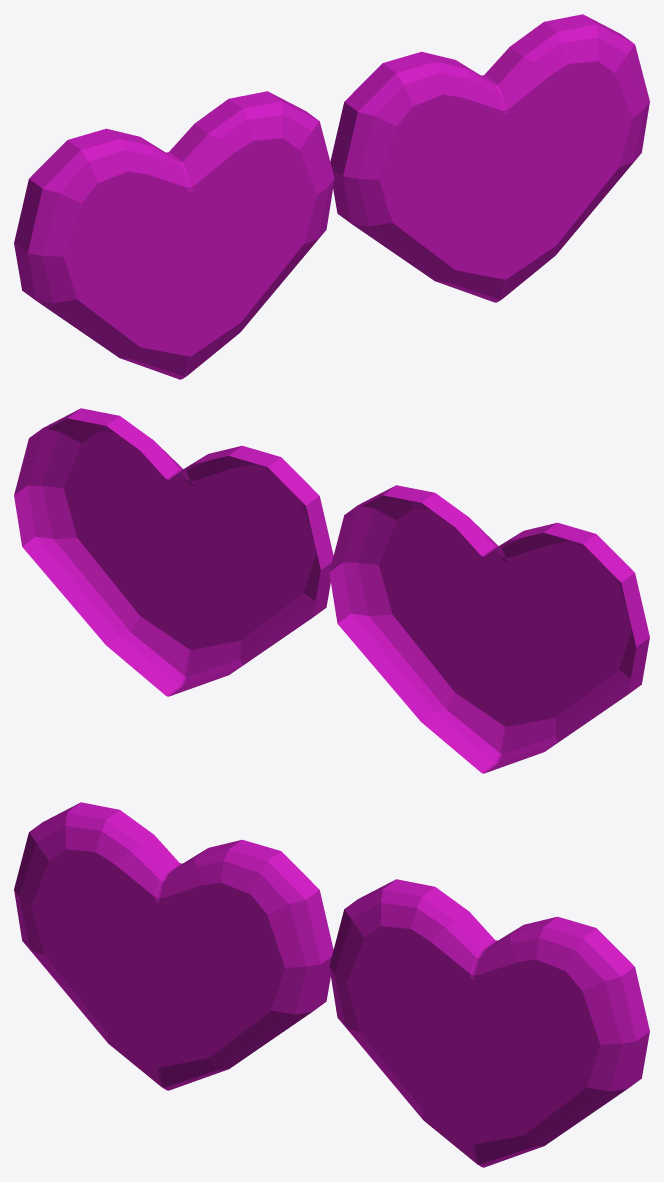
File: 2heartsAni.obj
3 renders of one model, top to bottom at view 1: azimuth 30°, elevation 25°; view 2: azimuth 150°, elevation 25°; view 3: azimuth 330°, elevation 25°, orthographic.
Visible parts, largest first — view 1: Plane.001; view 2: Plane.001; view 3: Plane.001.
Boxes of the visible parts, x1,y1,x2,y2 form: Plane.001: [14, 14, 649, 379]; Plane.001: [14, 408, 649, 773]; Plane.001: [14, 802, 649, 1167].
Bounding box in the file's own units: 0.2774 × 0.1089 × 0.0178.
